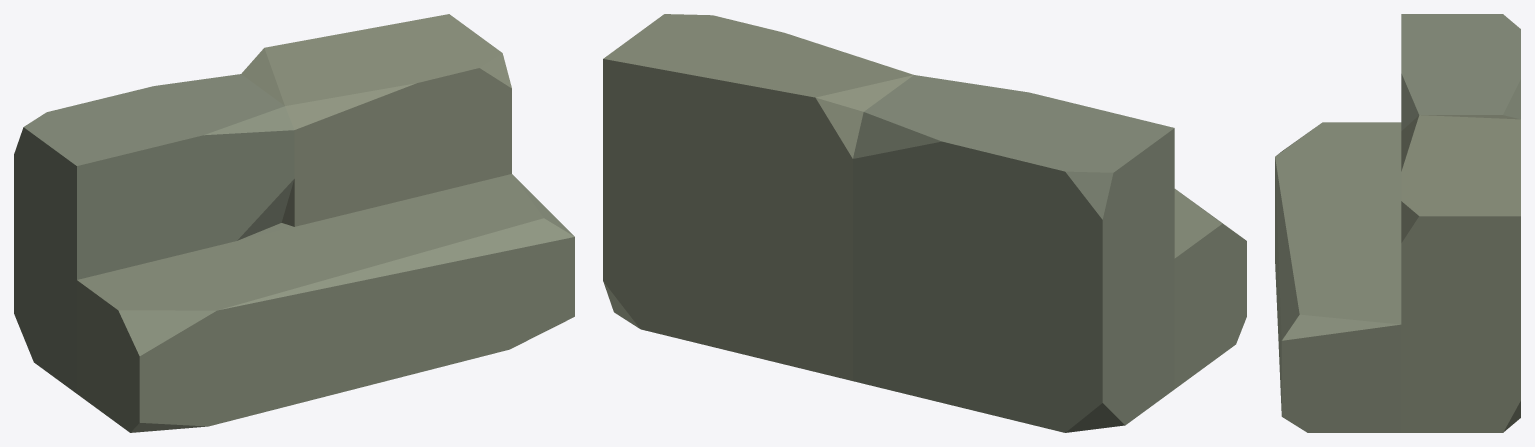
File: stair_straight_narrow_half_secondary.fbx
3 renders of one model, left to right at view 1: azimuth 30°, elevation 25°; view 2: azimuth 150°, elevation 25°; view 3: azimuth 270°, elevation 25°, orthographic. The views are drawn at different scales.
Visible parts, largest first — view 1: stair_straight_narrow_half_secondary; view 2: stair_straight_narrow_half_secondary; view 3: stair_straight_narrow_half_secondary.
Boxes of the visible parts, box(x1,y1,x2,y2) form: stair_straight_narrow_half_secondary: box(14, 14, 574, 432); stair_straight_narrow_half_secondary: box(603, 14, 1246, 432); stair_straight_narrow_half_secondary: box(1275, 14, 1520, 432).
Bounding box in the file's own units: 100 × 52.5 × 51.4.
